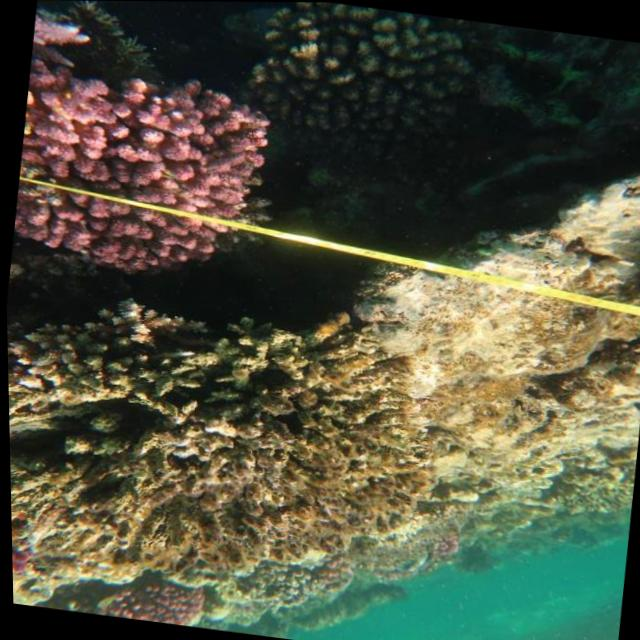Healthy Coral: (6, 56, 286, 288)
